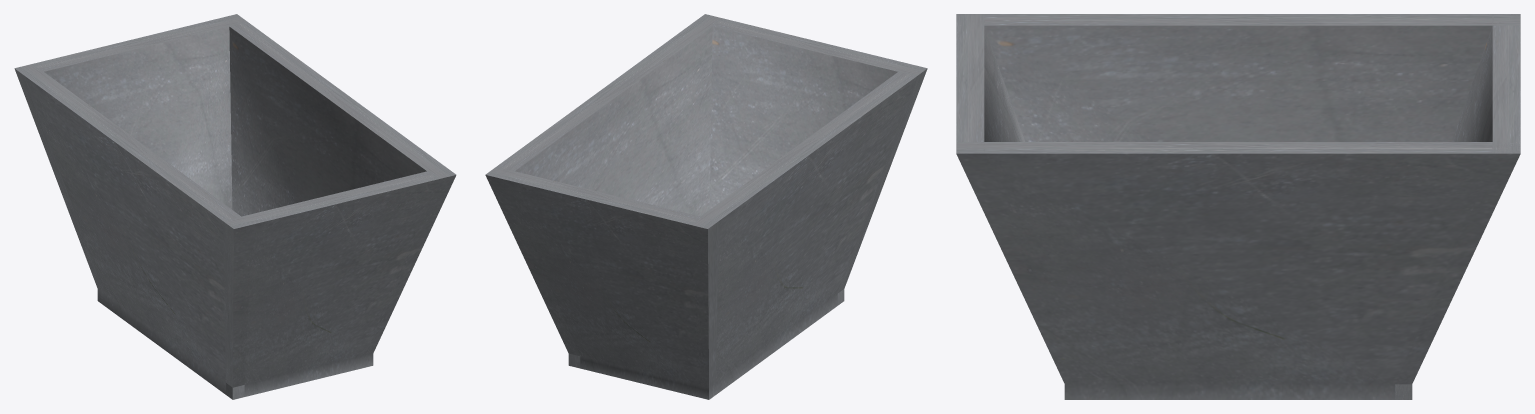
The model's file is Minecart.obj.
3 renders of one model, left to right at view 1: azimuth 30°, elevation 25°; view 2: azimuth 150°, elevation 25°; view 3: azimuth 270°, elevation 25°, orthographic. The views are drawn at different scales.
Parts seen in each view (by area): view 1: polySurface2; view 2: polySurface2; view 3: polySurface2.
Boxes of the visible parts, x1,y1,x2,y2 form: polySurface2: (14,14,456,399); polySurface2: (485,14,927,399); polySurface2: (956,14,1520,399).
Size of the model in its own units: 2.38 by 2.16 by 4.06.
